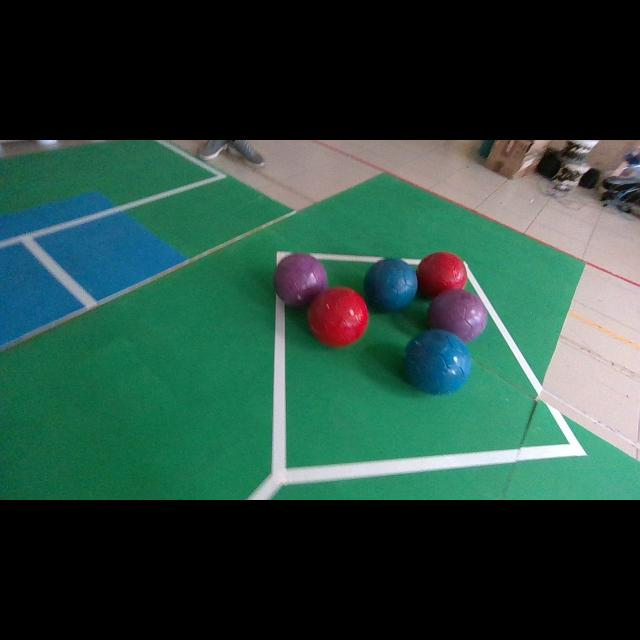B: (404, 329, 472, 394), (364, 259, 418, 311)
P: (429, 289, 488, 342), (274, 252, 328, 308)
R: (308, 288, 369, 347), (416, 254, 466, 298)
